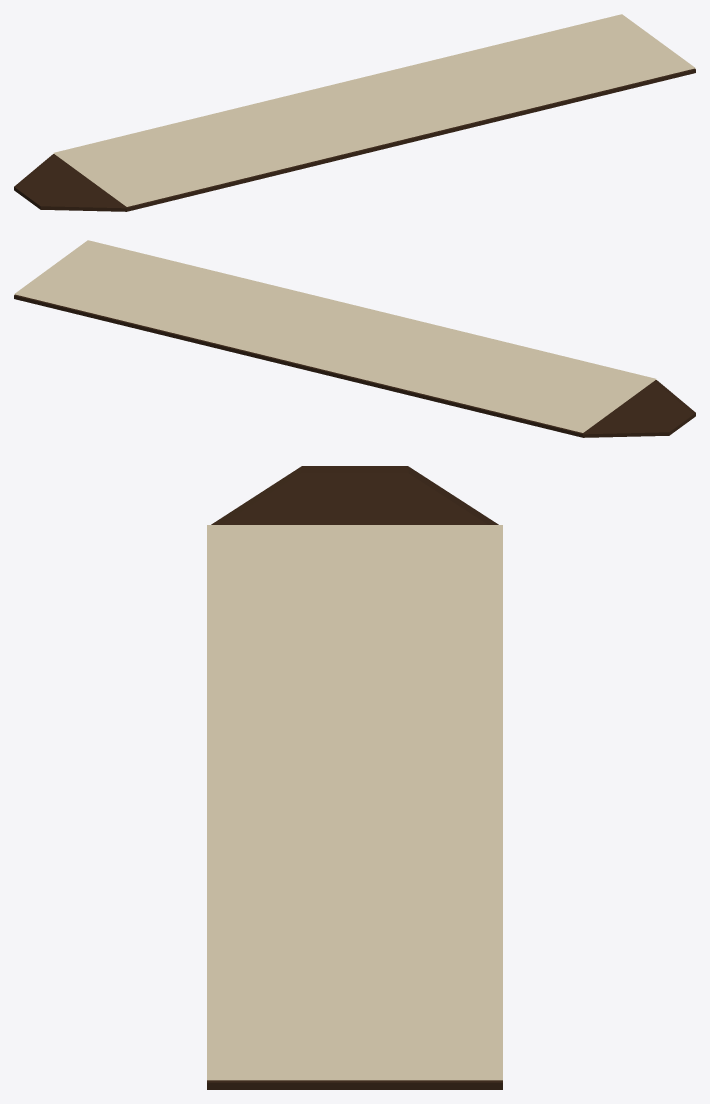
The model's file is negative_strip.glb.
The picture shows the model from 3 angles, top to bottom: view 1: azimuth 30°, elevation 25°; view 2: azimuth 150°, elevation 25°; view 3: azimuth 270°, elevation 25°; orthographic projection. The views are drawn at different scales.
Parts seen in each view (by area): view 1: strip_frames, strip_body; view 2: strip_frames, strip_body; view 3: strip_frames, strip_body.
Part boxes in pixels (x1,y1,x2,y2): strip_frames: (53, 14, 695, 206); strip_body: (14, 68, 695, 211); strip_frames: (14, 240, 656, 432); strip_body: (14, 294, 695, 437); strip_frames: (207, 525, 502, 1080); strip_body: (207, 466, 502, 1089).
Size of the model in its own units: 0.222 by 0.0016 by 0.045.
